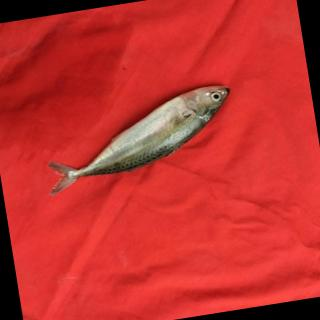Ikan: (30, 70, 255, 209)
